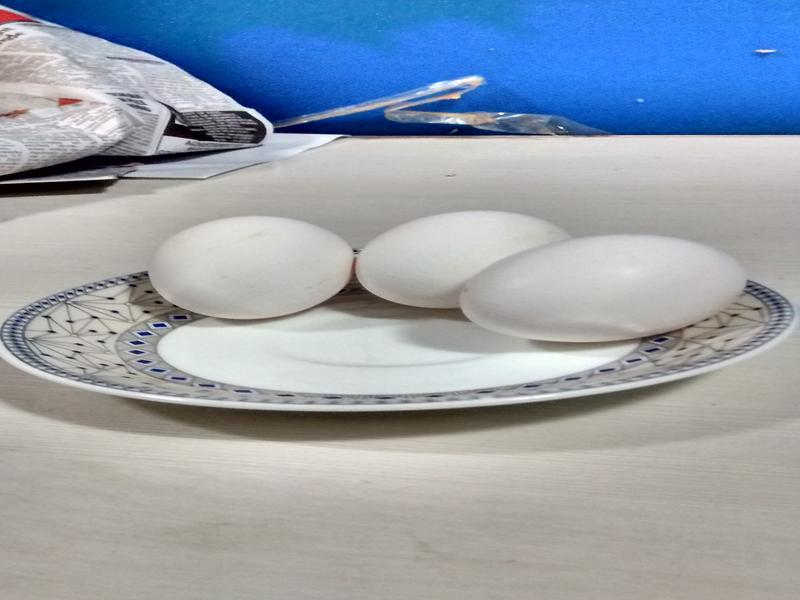egg: (146, 214, 350, 318)
